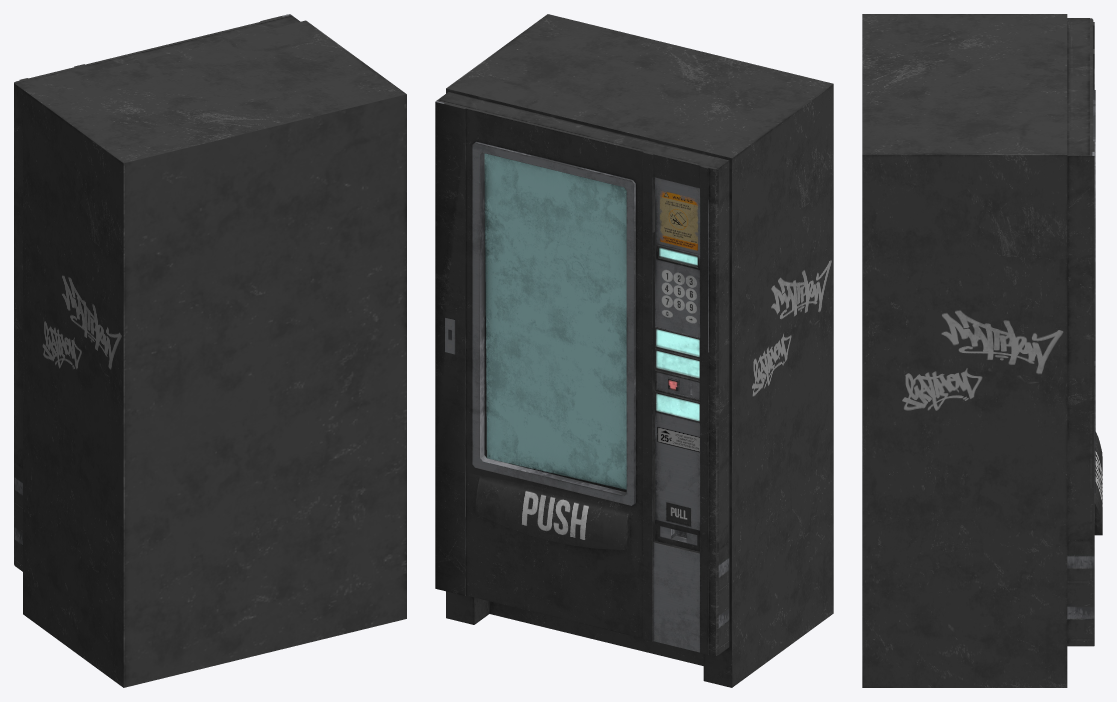
3 renders of one model, left to right at view 1: azimuth 30°, elevation 25°; view 2: azimuth 150°, elevation 25°; view 3: azimuth 270°, elevation 25°, orthographic.
Parts seen in each view (by area): view 1: sm_Vendingmachine_01_01; view 2: sm_Vendingmachine_01_01; view 3: sm_Vendingmachine_01_01.
Part boxes in pixels (box(x1,y1,x2,y2)): sm_Vendingmachine_01_01: box(14, 14, 406, 687); sm_Vendingmachine_01_01: box(435, 14, 833, 687); sm_Vendingmachine_01_01: box(862, 14, 1102, 687).
Bounding box in the file's own units: 1.13 × 2 × 0.8172.
1 material, 1 textured.
